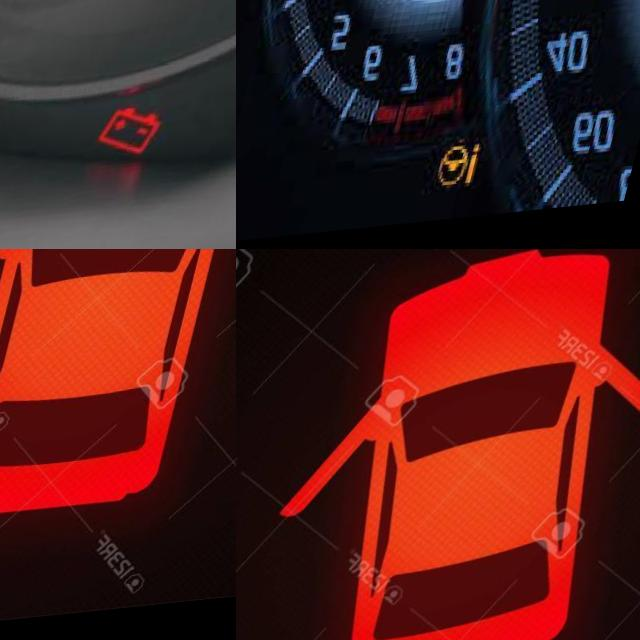Electronic Power Steering: (464, 150, 517, 200)
